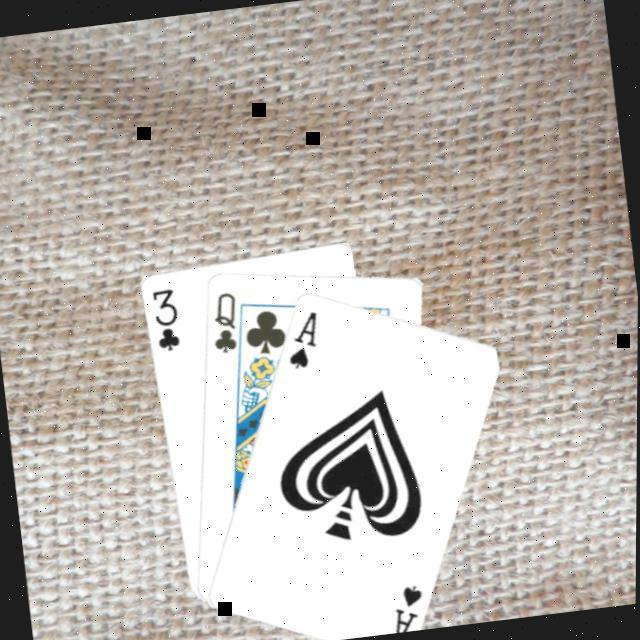3C: (145, 286, 183, 357)
AS: (278, 308, 324, 374), (382, 582, 427, 634)
QC: (202, 289, 243, 359)
